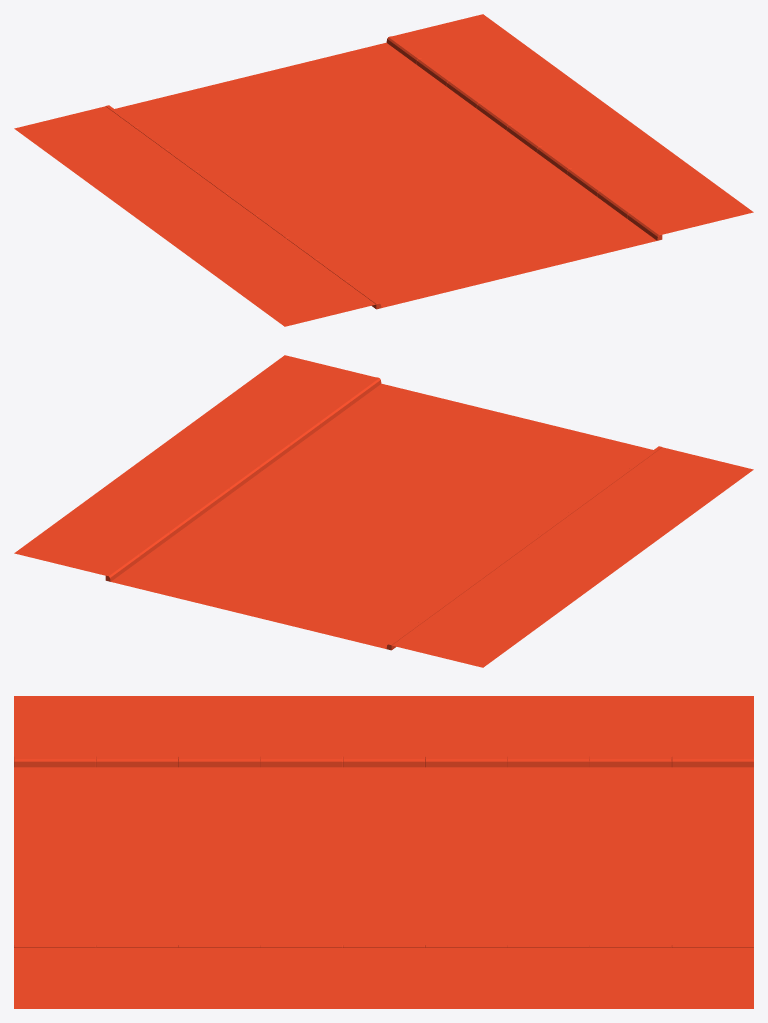
Rendered from SM_Road_Crosswalk_10x10_City.fbx.
3 renders of one model, top to bottom at view 1: azimuth 30°, elevation 25°; view 2: azimuth 150°, elevation 25°; view 3: azimuth 270°, elevation 25°, orthographic. The views are drawn at different scales.
Visible parts, largest first — view 1: SM_Road_Crosswalk_10x10_City; view 2: SM_Road_Crosswalk_10x10_City; view 3: SM_Road_Crosswalk_10x10_City.
Boxes of the visible parts, bbox=[...] form: SM_Road_Crosswalk_10x10_City: bbox=[14, 14, 753, 326]; SM_Road_Crosswalk_10x10_City: bbox=[14, 355, 753, 667]; SM_Road_Crosswalk_10x10_City: bbox=[14, 696, 753, 1008].
Bounding box in the file's own units: 10 × 0.1084 × 10.
